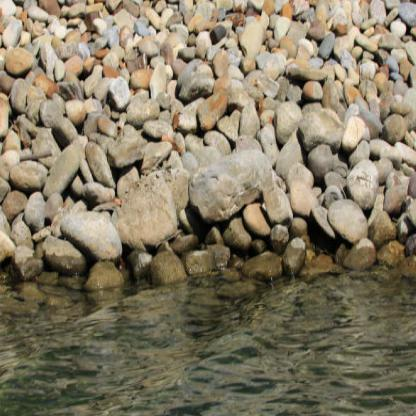Sedimentary_Limestone: (188, 151, 274, 220), (112, 166, 175, 244), (38, 133, 87, 205), (297, 101, 345, 152), (329, 187, 369, 248), (170, 58, 215, 104), (0, 38, 33, 84), (269, 98, 302, 140), (340, 109, 370, 147), (354, 159, 381, 198), (127, 64, 154, 94)
